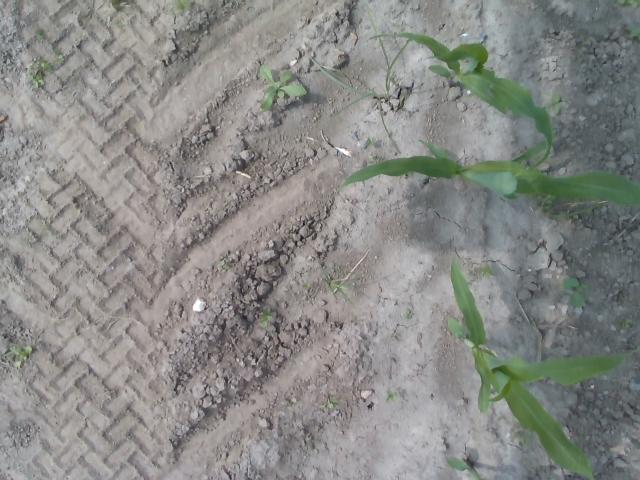Maize: (445, 259, 640, 480), (370, 32, 554, 172), (339, 140, 640, 208), (443, 454, 488, 480)
Weeds: (306, 4, 412, 156), (318, 259, 366, 308), (260, 64, 308, 110), (557, 276, 587, 308), (25, 58, 54, 89), (10, 343, 32, 367), (542, 93, 568, 113), (514, 428, 534, 448), (533, 194, 555, 210), (171, 0, 192, 15), (624, 24, 640, 42), (574, 35, 589, 54), (259, 308, 273, 328), (477, 264, 496, 277), (321, 396, 338, 409), (618, 317, 632, 330), (54, 49, 66, 63), (616, 0, 640, 7), (384, 390, 398, 402), (220, 253, 228, 267), (35, 28, 44, 40), (403, 308, 413, 318), (109, 0, 118, 10), (578, 428, 585, 440), (366, 138, 376, 146), (70, 74, 77, 82), (303, 284, 310, 290), (392, 336, 396, 341)
